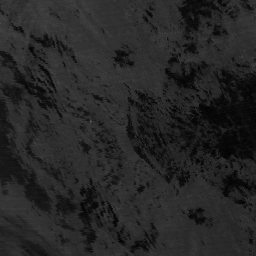Target: (88, 119, 92, 124)
